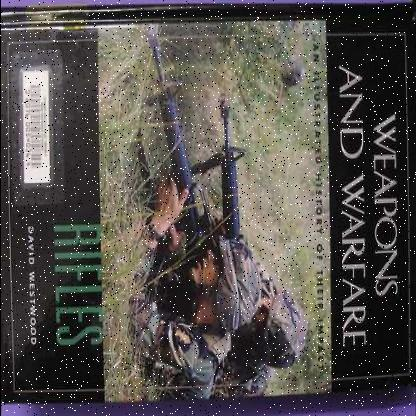rifle: (132, 32, 197, 260), (210, 81, 256, 270)
